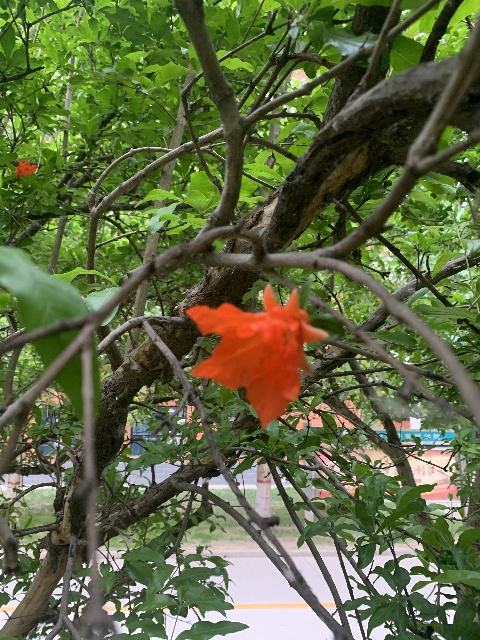flower: (184, 283, 328, 428), (14, 158, 37, 178)
